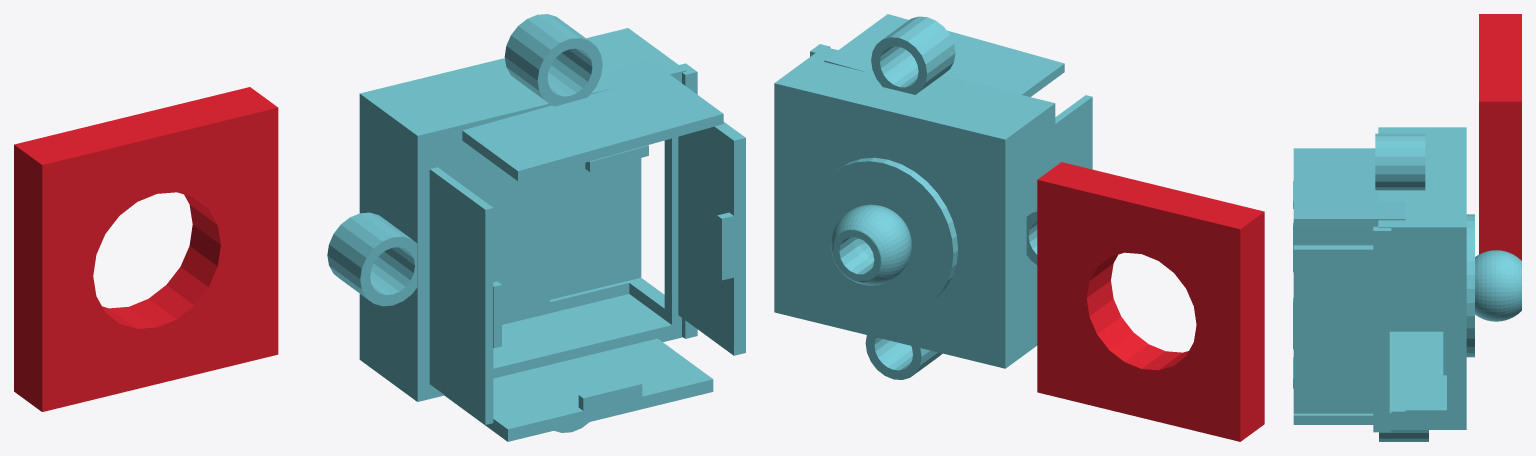
Rendered from CameraHolder.obj.
3 views of the same model, side by side, from view 1: azimuth 30°, elevation 25°; view 2: azimuth 150°, elevation 25°; view 3: azimuth 270°, elevation 25° (orthographic). The views are drawn at different scales.
Parts seen in each view (by area): view 1: group_0_7720667, group_0_15277357; view 2: group_0_7720667, group_0_15277357; view 3: group_0_7720667, group_0_15277357.
Boxes of the visible parts, x1,y1,x2,y2 form: group_0_7720667: (327,14,745,441); group_0_15277357: (14,87,278,411); group_0_7720667: (774,14,1092,379); group_0_15277357: (1037,162,1264,441); group_0_7720667: (1293,127,1521,441); group_0_15277357: (1479,14,1521,260).
Size of the model in its own units: 72 by 46.5 by 31.97.
